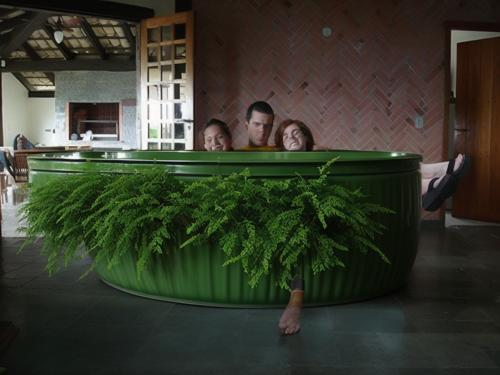person: (153, 101, 348, 334), (1, 121, 238, 224), (277, 120, 473, 223)
person/foot: (13, 132, 45, 166), (4, 148, 38, 176), (320, 197, 356, 218), (432, 154, 464, 177), (278, 303, 301, 334), (417, 177, 444, 196)
person/hand: (151, 186, 172, 216), (308, 180, 328, 196), (175, 210, 196, 225), (330, 156, 347, 174), (160, 174, 177, 188)
person/head: (201, 117, 232, 159), (245, 102, 274, 144), (280, 120, 308, 153)
pottedplant: (14, 149, 422, 308)
